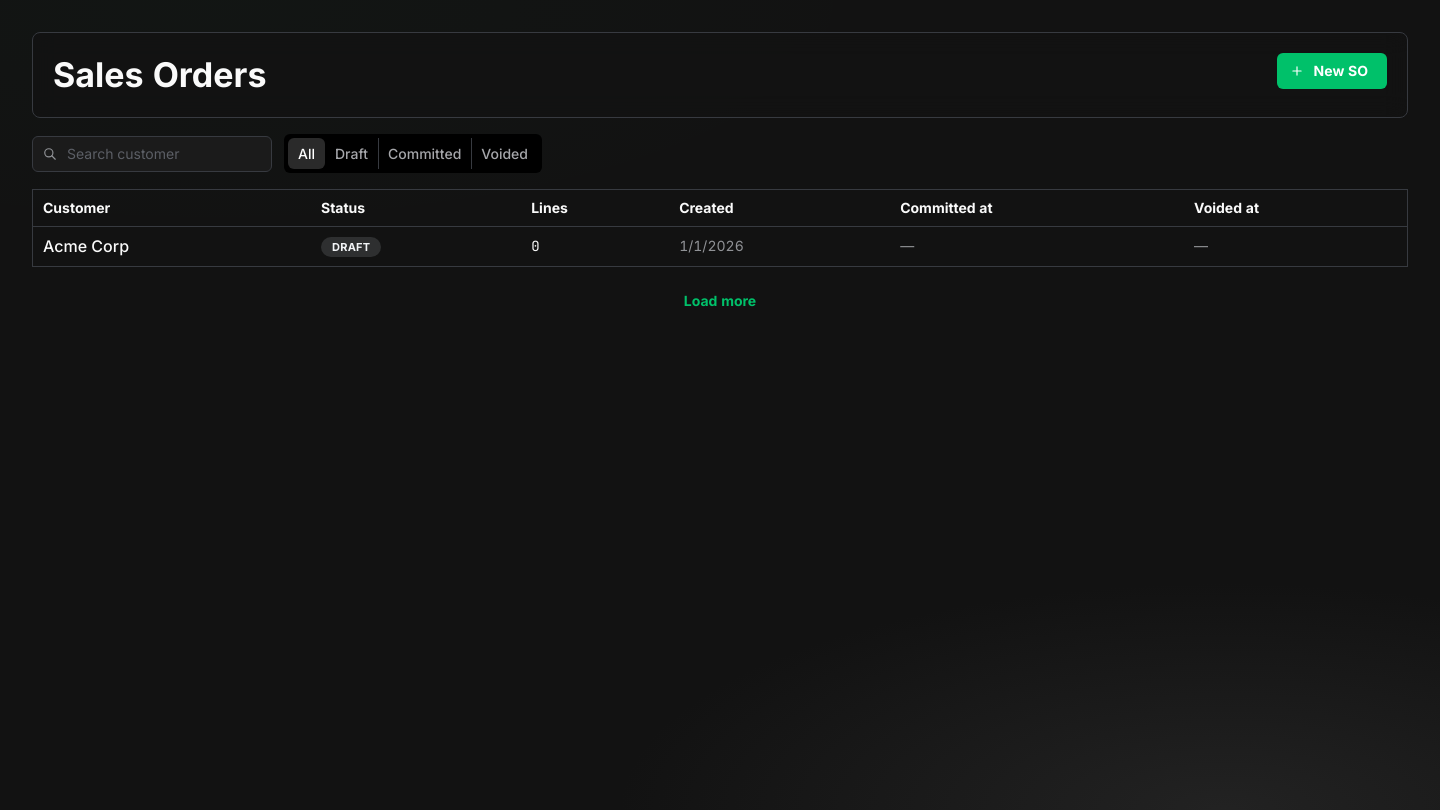
Test case: SosListPage › cursor pagination: Load more button appears; clicking fetches next page
The image size is (1440, 810).
Expected: the text "Acme Corp" is shown, [43,236,129,256]
Step 1. Click the button "Load more" → (720, 301), box [665,283,775,319]
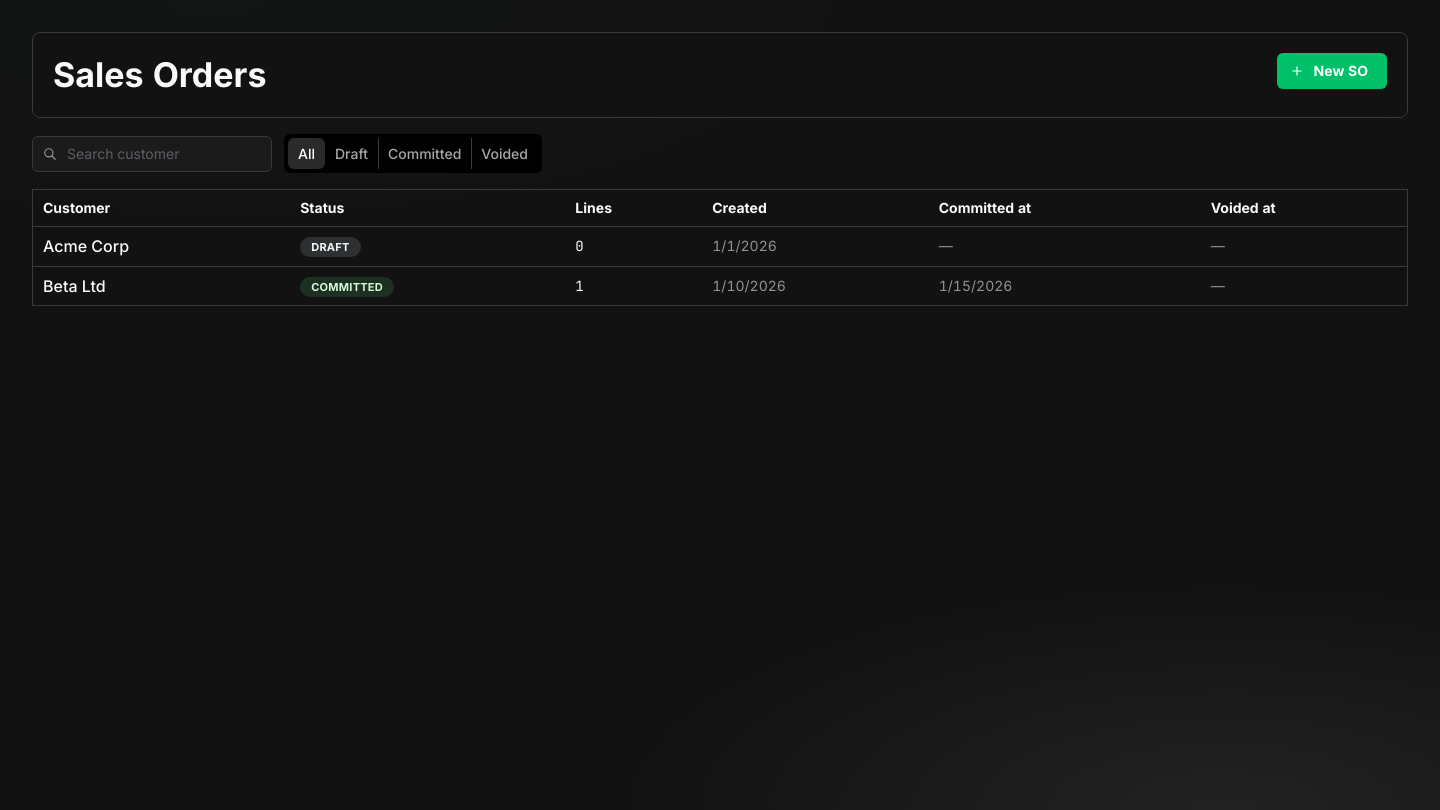
Now the text "Beta Ltd" is shown, box [43,276,106,296]
